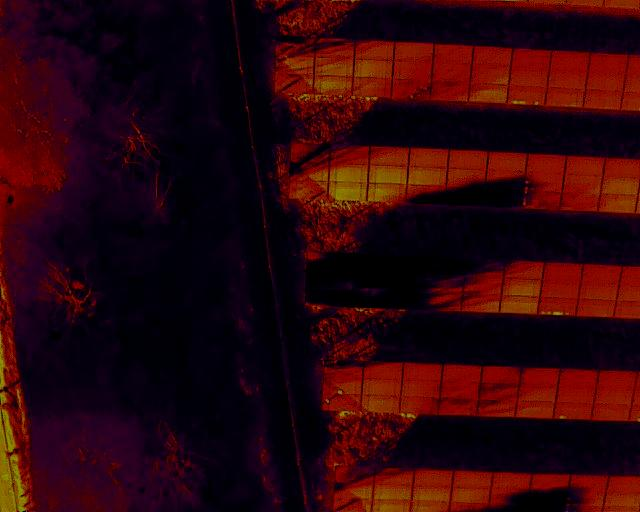Cell: (553, 403, 593, 420), (323, 379, 362, 395)
Cell-Multi: (507, 85, 546, 105), (322, 395, 362, 413), (539, 297, 576, 316)
No-Anomaly: (527, 154, 567, 174), (329, 182, 369, 202), (393, 59, 433, 79), (488, 152, 527, 172), (580, 281, 619, 301), (509, 66, 548, 86), (313, 76, 352, 96), (546, 87, 583, 108), (605, 158, 640, 180), (408, 148, 448, 167), (587, 71, 625, 91), (353, 58, 393, 77), (582, 264, 621, 283), (502, 277, 541, 296), (368, 184, 405, 204), (549, 67, 586, 87), (566, 157, 604, 176), (402, 380, 440, 399), (474, 46, 512, 65), (432, 63, 470, 82), (471, 64, 509, 83), (353, 77, 391, 96), (442, 365, 482, 383), (584, 90, 621, 109), (502, 295, 539, 314), (470, 84, 507, 103), (408, 167, 447, 185), (403, 364, 442, 382), (597, 371, 636, 389), (314, 58, 353, 76), (452, 470, 493, 487), (541, 279, 579, 297), (521, 368, 559, 386), (493, 471, 531, 489), (589, 54, 627, 72), (577, 299, 617, 316), (448, 152, 487, 169), (329, 166, 368, 183), (564, 176, 603, 193), (543, 262, 582, 279), (363, 363, 402, 380), (551, 51, 590, 68), (557, 387, 596, 404), (368, 166, 406, 183), (600, 195, 638, 212), (362, 394, 400, 411), (559, 370, 597, 387), (434, 44, 472, 61), (513, 50, 551, 67), (520, 386, 557, 403), (516, 401, 553, 418), (363, 380, 402, 396), (414, 469, 453, 485), (602, 178, 638, 195), (596, 388, 632, 405), (412, 486, 450, 502), (594, 404, 631, 420), (569, 474, 606, 490), (373, 486, 412, 501), (452, 487, 491, 502), (394, 44, 433, 58), (606, 475, 639, 490), (531, 474, 568, 487)
Shadowing: (330, 146, 369, 166), (290, 162, 329, 182), (430, 81, 469, 101), (462, 294, 502, 313), (323, 360, 363, 379), (481, 366, 521, 385), (440, 382, 480, 401), (276, 37, 314, 57), (315, 38, 355, 57), (307, 251, 346, 270), (307, 270, 346, 289), (424, 273, 463, 292), (336, 467, 375, 486), (369, 147, 407, 166), (445, 189, 485, 207), (345, 272, 385, 290), (344, 289, 384, 307), (422, 293, 462, 311), (446, 170, 485, 188), (524, 175, 563, 193), (406, 186, 445, 204), (561, 193, 600, 211), (275, 57, 314, 75), (274, 76, 313, 94), (463, 276, 504, 293), (292, 144, 330, 162), (392, 80, 428, 99), (289, 182, 329, 199), (521, 192, 561, 209), (346, 254, 386, 271), (385, 256, 425, 273), (355, 41, 395, 58), (437, 399, 479, 415), (486, 172, 525, 189), (485, 190, 524, 207), (466, 258, 505, 275), (384, 275, 425, 291), (375, 469, 413, 486), (426, 257, 466, 273), (478, 385, 518, 401), (307, 289, 344, 306), (506, 262, 544, 278), (399, 397, 439, 412), (384, 292, 421, 308), (490, 489, 531, 503), (567, 490, 605, 505), (335, 485, 373, 500), (478, 401, 515, 416), (531, 488, 566, 503)
